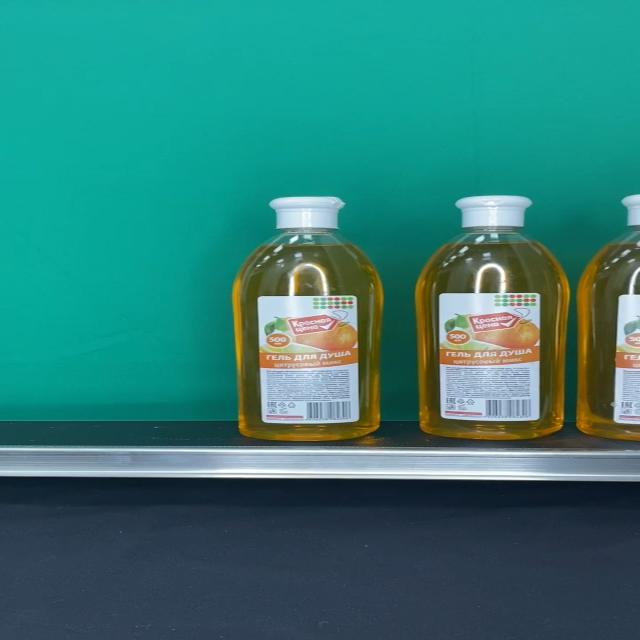Bottle: (415, 195, 570, 440), (233, 196, 384, 440)
Cap: (268, 196, 346, 230), (454, 195, 534, 228)
